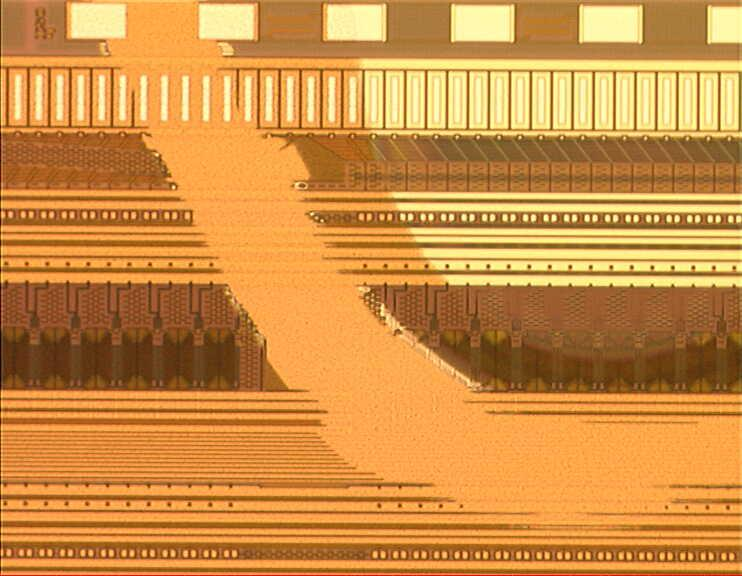BLOCK ETCH: (85, 1, 742, 535)
